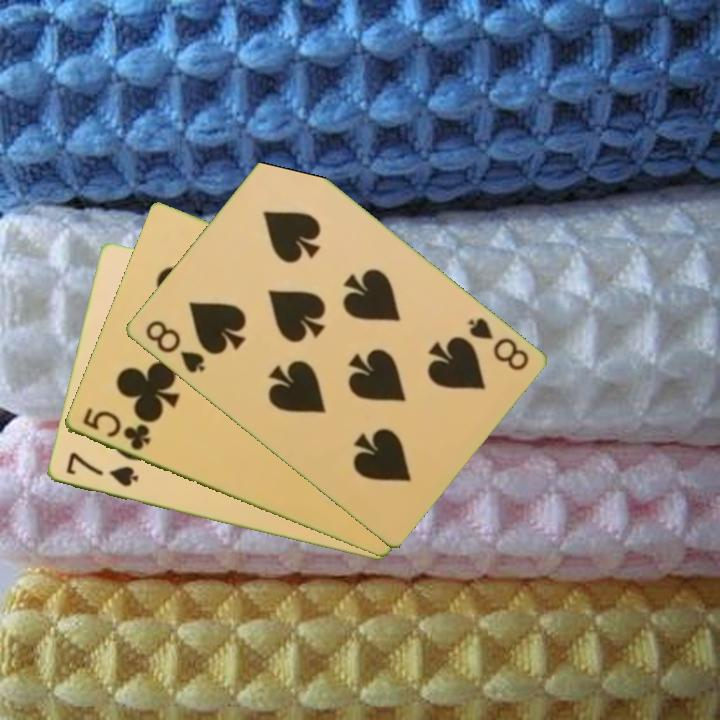5c: (78, 404, 153, 454)
7s: (62, 449, 141, 490)
8s: (464, 314, 531, 374), (141, 316, 207, 376)
